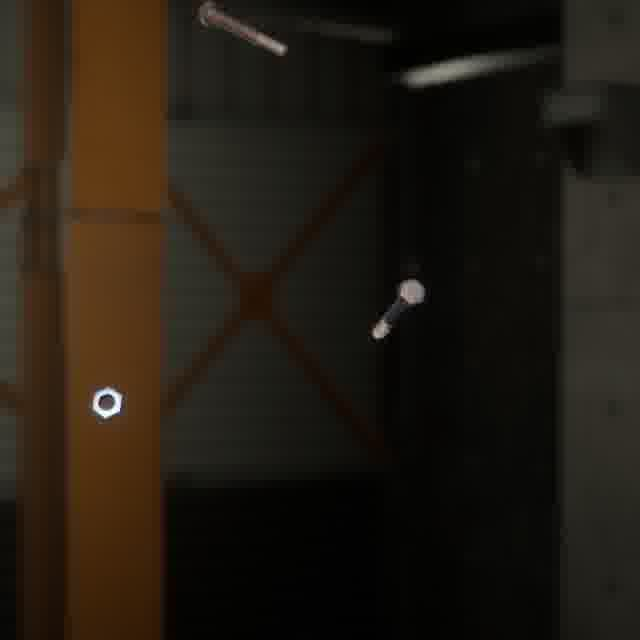bolt: (193, 0, 293, 61), (367, 274, 430, 343)
nut: (87, 382, 128, 425)
